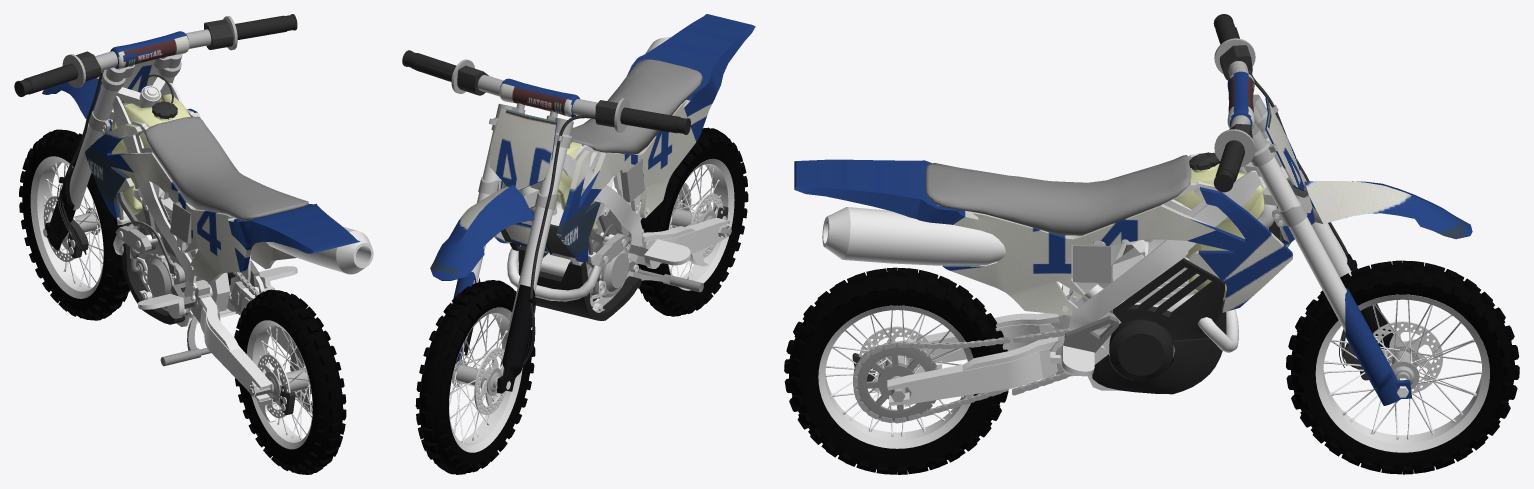
Rendered from fp_bike_enduro.glb.
3 renders of one model, left to right at view 1: azimuth 30°, elevation 25°; view 2: azimuth 150°, elevation 25°; view 3: azimuth 270°, elevation 25°, orthographic. The views are drawn at different scales.
Visible parts, largest first — view 1: Bike, TireRear, TireFront, HandleBars, SwingArm; view 2: Bike, HandleBars, TireFront, TireRear, SwingArm; view 3: Bike, TireRear, TireFront, HandleBars, SwingArm, Shocks, KickStart.
Boxes of the visible parts, x1,y1,x2,y2 form: Bike: [43, 50, 373, 396]; TireRear: [234, 289, 346, 474]; TireFront: [19, 129, 129, 320]; HandleBars: [14, 14, 297, 254]; SwingArm: [138, 260, 301, 401]; Bike: [430, 14, 755, 320]; HandleBars: [402, 50, 690, 357]; TireFront: [415, 277, 535, 474]; TireRear: [635, 127, 748, 316]; SwingArm: [633, 217, 728, 292]; Bike: [794, 78, 1472, 395]; TireRear: [784, 267, 1011, 474]; TireFront: [1286, 254, 1519, 474]; HandleBars: [1210, 14, 1440, 367]; SwingArm: [887, 284, 1109, 405]; Shocks: [1345, 288, 1411, 405]; KickStart: [1085, 313, 1122, 390].
Bounding box in the file's own units: 3.76 × 4.25 × 7.24.
15 materials, 2 textured.
